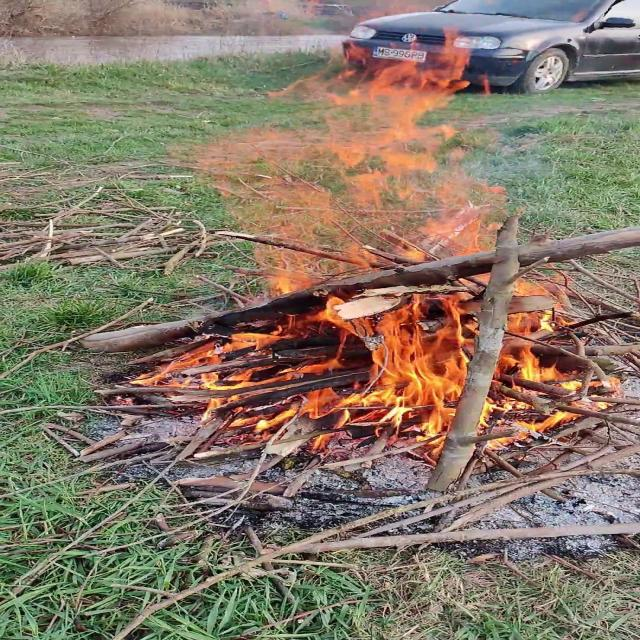Fire: (85, 24, 604, 438)
